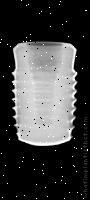Cowellmedi: (12, 41, 77, 148)
